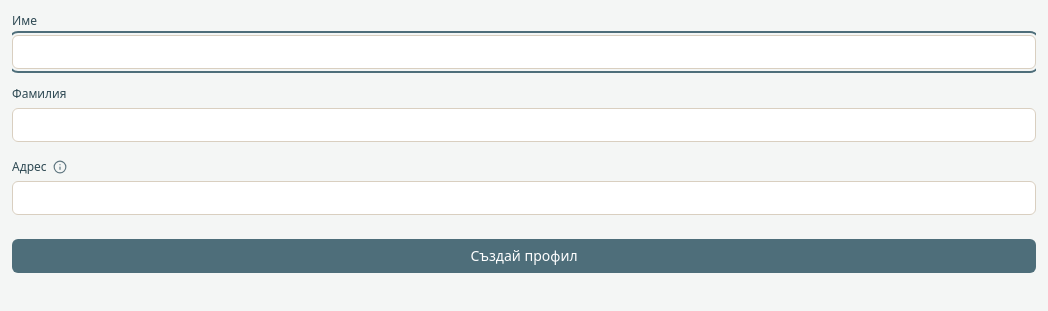
Test: NewProfileForm › stops an invalid slug before the action runs
Type "Кирил" into the field labelled "Име" at (524, 52), box [12,35,1036,69]
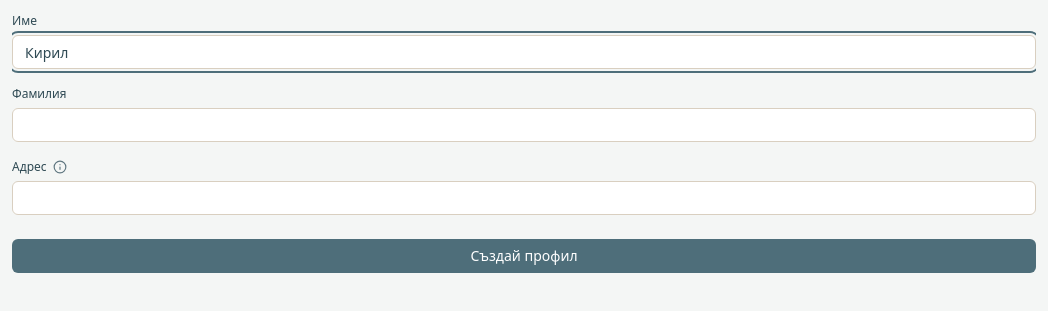
Type "Иванов" into the field labelled "Фамилия" at (524, 125), box [12,108,1036,142]
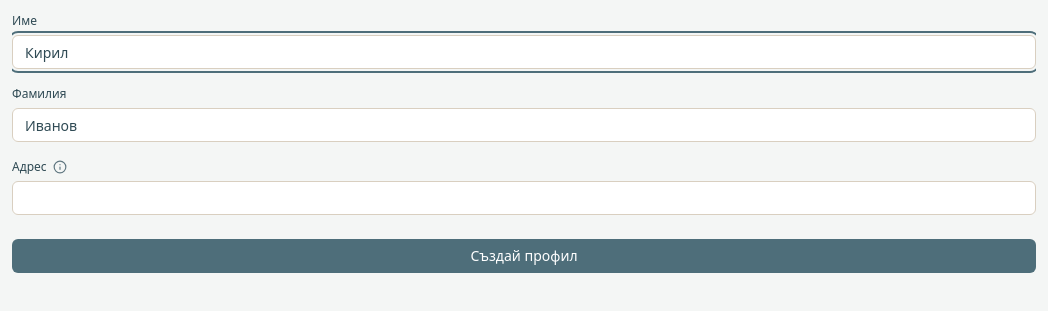
Type "Kiril" into the field labelled "Адрес" at (524, 198), box [12,181,1036,215]
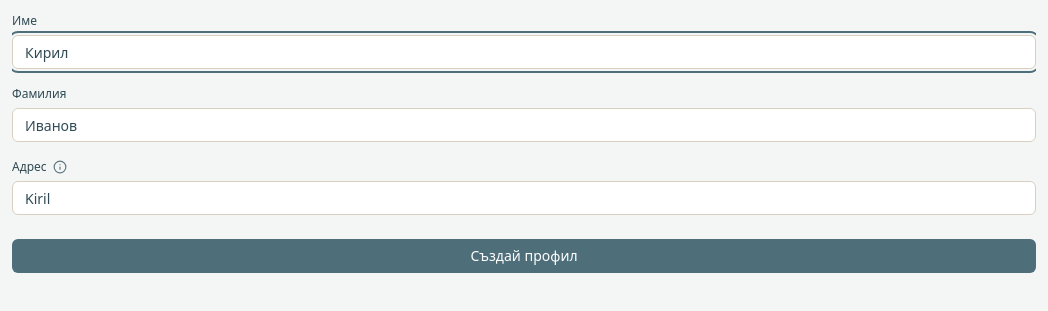
Submit the form from the button "Създай профил", box [12,239,1036,273]
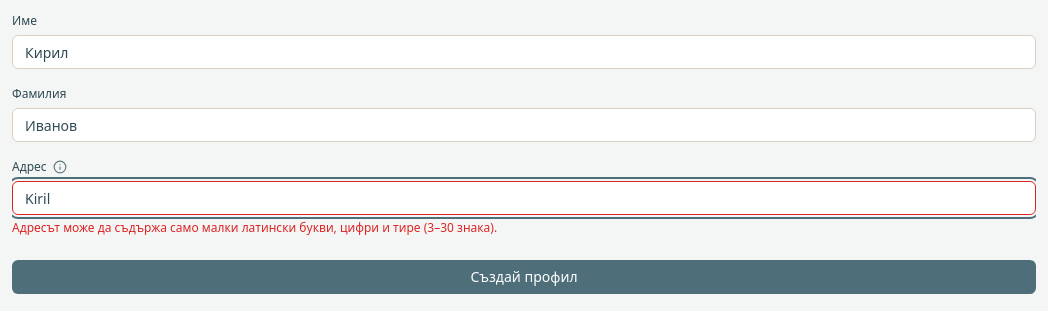
Now the text "малки латински букви" is shown, box [12,219,497,236]
